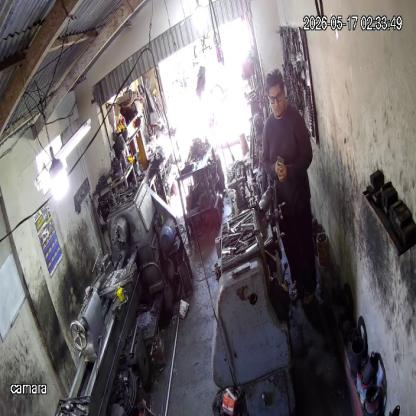lentes: (267, 89, 284, 103)
